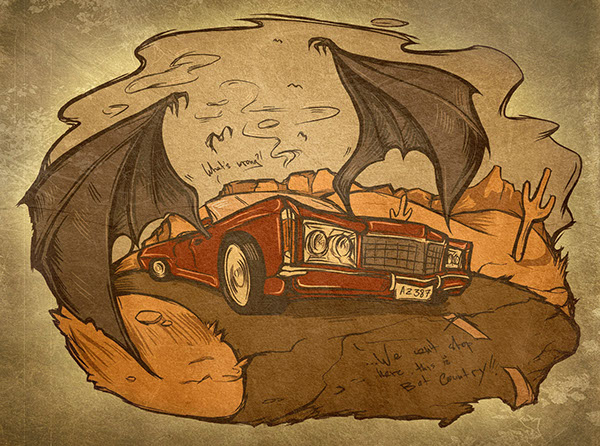car: (137, 170, 492, 345)
